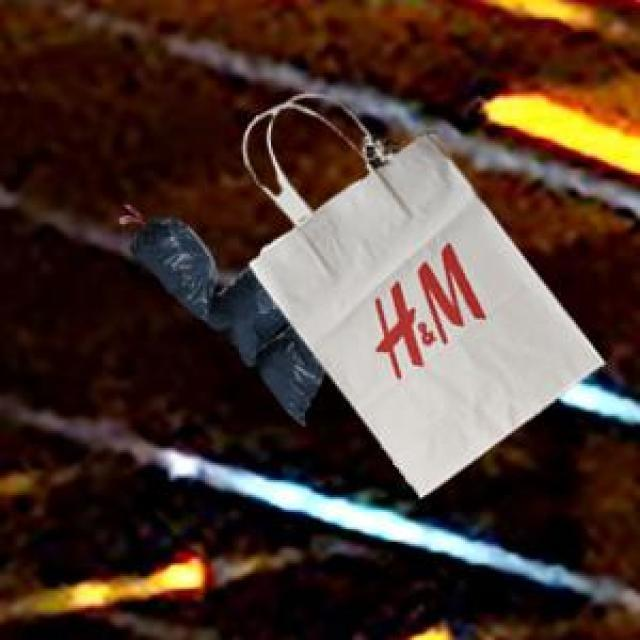miscellaneous trash: (126, 213, 322, 420)
paper: (245, 98, 600, 493)
